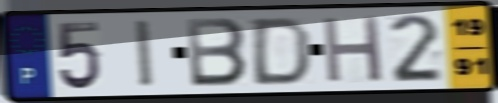2: (387, 12, 448, 85)
5: (56, 20, 102, 91)
B: (184, 16, 250, 89)
D: (248, 14, 314, 87)
H: (320, 13, 386, 86)
I: (132, 17, 157, 90)
